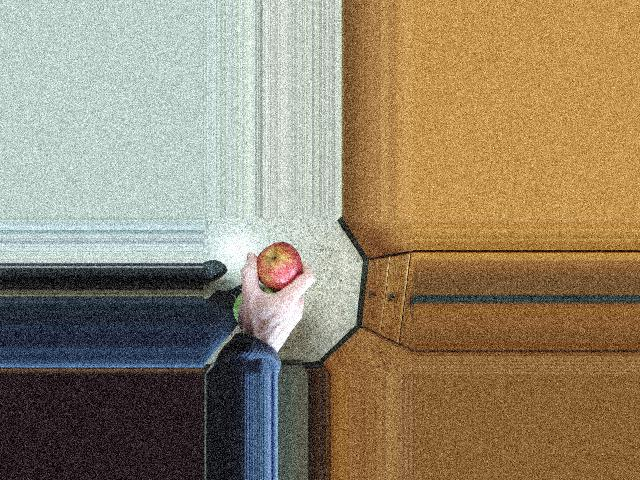apple: (249, 240, 305, 298)
